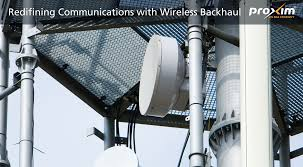ba: (131, 34, 183, 128)
